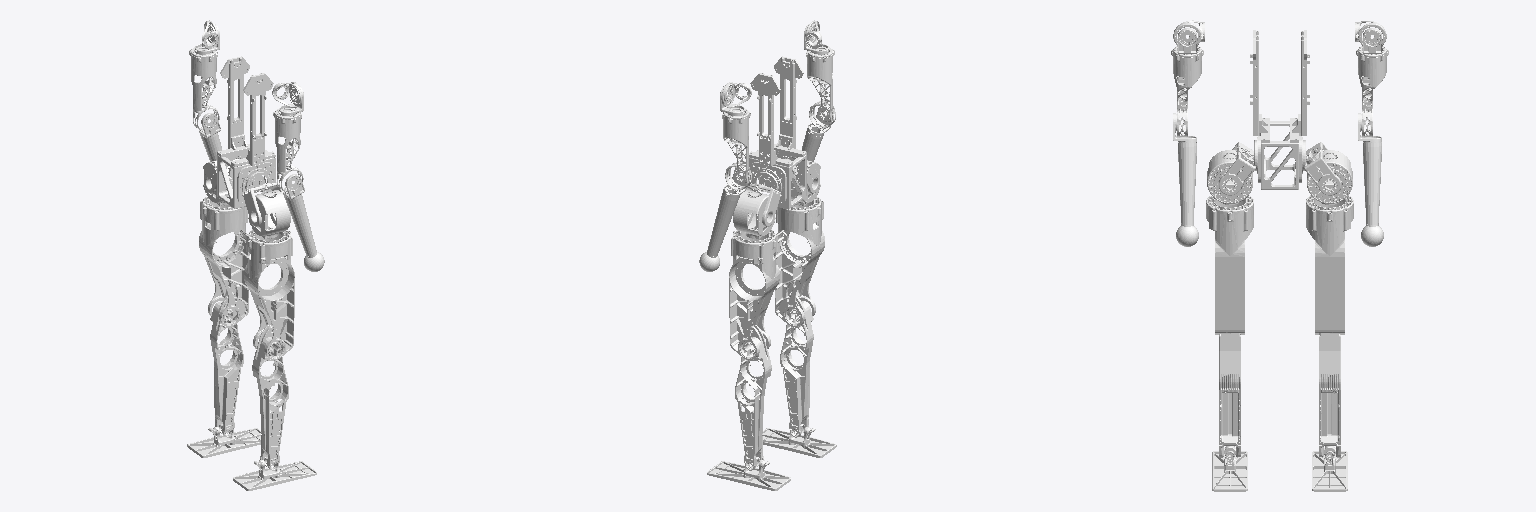
--- What the picture shows (computed from the rendered views, not written in the file) ---
The picture shows the robot from 3 angles, left to right: view 1: azimuth 30°, elevation 25°; view 2: azimuth 150°, elevation 25°; view 3: azimuth 270°, elevation 25°; orthographic projection.
Model L13dof with 21 links and 20 joints (12 revolute, 8 fixed), rooted at base_link, posed every joint at zero.
Links seen in each view (by area): view 1: base_link, right_link_7, left_link_7, right_link_8, left_link_8, right_link_4, left_link_3, right_link_3, right_link_91, right_link_6, left_link_91, left_link_4 (+1 smaller); view 2: base_link, left_link_7, right_link_7, left_link_8, right_link_8, left_link_4, left_link_3, left_link_91, right_link_3, left_link_6, right_link_91, right_link_4 (+1 smaller); view 3: left_link_7, right_link_7, base_link, left_link_8, right_link_8, right_link_4, left_link_4, left_link_3, right_link_3, left_link_91, right_link_91, left_link_6 (+3 smaller).
Link boxes in pixels (x1,y1,x2,y2): base_link: (217,56,275,208); right_link_7: (244,229,294,359); left_link_7: (199,196,248,326); right_link_8: (252,325,288,470); left_link_8: (210,296,243,437); right_link_4: (283,174,324,271); left_link_3: (189,47,219,131); right_link_3: (273,109,303,193); right_link_91: (233,460,316,490); right_link_6: (248,190,290,238); left_link_91: (187,427,261,457); left_link_4: (199,113,221,161); base_link: (749,56,806,209); left_link_7: (729,229,779,359); right_link_7: (775,196,824,326); left_link_8: (735,325,771,470); right_link_8: (780,295,813,437); left_link_4: (699,166,748,271); left_link_3: (722,109,751,189); left_link_91: (707,460,790,490); right_link_3: (806,47,835,128); left_link_6: (733,190,775,238); right_link_91: (762,427,836,457); right_link_4: (802,104,832,161); left_link_7: (1306,195,1353,334); right_link_7: (1206,195,1253,334); base_link: (1250,30,1309,189); left_link_8: (1319,333,1340,457); right_link_8: (1219,333,1240,457); right_link_4: (1173,113,1198,246); left_link_4: (1358,113,1383,246); left_link_3: (1356,46,1388,136); right_link_3: (1171,46,1203,136); left_link_91: (1312,446,1347,491); right_link_91: (1212,446,1247,491); left_link_6: (1307,150,1352,204).
Size in the robot's own frame: 0.25 by 0.6117 by 1.39 metres.
21 mesh visuals loaded from 21 distinct referenced files (21 binary STL).

The robot description file, URDF, robot "L13dof":
<?xml version="1.0" encoding="utf-8"?>
<!-- This URDF was automatically created by SolidWorks to URDF Exporter! Originally created by Stephen Brawner ([email redacted]) 
     Commit Version: 1.6.0-4-g7f85cfe  Build Version: 1.6.7995.38578
     For more information, please see http://wiki.ros.org/sw_urdf_exporter -->
<robot
  name="L13dof">
  <mujoco>
    <compiler meshdir="../meshes_L1_fb/"/>
  </mujoco>

  <link
    name="base_link">
    <inertial>
      <origin
        xyz="-0.00115901 -0.00010211 0.12923349"
        rpy="0 0 0" />
      <mass
        value="17.13191021" />
      <inertia
        ixx="0.70017106"
        ixy="-0.00030346"
        ixz="-0.05489343"
        iyy="0.59901885"
        iyz="0.00049175"
        izz="0.16557493" />
    </inertial>
    <visual>
      <origin
        xyz="0 0 0"
        rpy="0 0 0" />
      <geometry>
        <mesh
          filename="../meshes_L1_fb/base_link.STL" />
      </geometry>
      <material
        name="">
        <color
          rgba="1 1 1 1" />
      </material>
    </visual>
    <collision>
      <origin
        xyz="0 0 0"
        rpy="0 0 0" />
      <geometry>
        <mesh
          filename="../meshes_L1_fb/base_link.STL" />
      </geometry>
    </collision>
  </link>

  <link
    name="left_link_1">
    <inertial>
      <origin
        xyz="-0.00071452 0.044067 -0.00025689"
        rpy="0 0 0" />
      <mass
        value="0.7773" />
      <inertia
        ixx="0.00050258"
        ixy="-2.16E-06"
        ixz="-5E-07"
        iyy="0.00047078"
        iyz="-5E-06"
        izz="0.00051586" />
    </inertial>
    <visual>
      <origin
        xyz="0 0 0"
        rpy="0 0 0" />
      <geometry>
        <mesh
          filename="../meshes_L1_fb/SL1.STL" />
      </geometry>
      <material
        name="">
        <color
          rgba="1 1 1 1" />
      </material>
    </visual>
    <collision>
      <origin
        xyz="0 0 0"
        rpy="0 0 0" />
      <geometry>
        <mesh
          filename="../meshes_L1_fb/SL1.STL" />
      </geometry>
    </collision>
  </link>
  <joint
    name="left_joint_1"
    type="fixed">
    <origin
      xyz="-0.004 0.2134 0.2855"
      rpy="0 0 0" />
    <parent
      link="base_link" />
    <child
      link="left_link_1" />
    <axis
      xyz="0 1 0" />
    <limit
      lower="-3.14"
      upper="0.96"
      effort="22.5"
      velocity="14.37" />
  </joint>
  <link
    name="left_link_2">
    <inertial>
      <origin
        xyz="0.024175 0 -0.030578"
        rpy="0 0 0" />
      <mass
        value="0.09063" />
      <inertia
        ixx="8.144E-05"
        ixy="0"
        ixz="-2.059E-05"
        iyy="8.522E-05"
        iyz="0"
        izz="6.187E-05" />
    </inertial>
    <visual>
      <origin
        xyz="0 0 0"
        rpy="0 0 0" />
      <geometry>
        <mesh
          filename="../meshes_L1_fb/SL2.STL" />
      </geometry>
      <material
        name="">
        <color
          rgba="1 1 1 1" />
      </material>
    </visual>
    <collision>
      <origin
        xyz="0 0 0"
        rpy="0 0 0" />
      <geometry>
        <mesh
          filename="../meshes_L1_fb/SL2.STL" />
      </geometry>
    </collision>
  </link>
  <joint
    name="left_joint_2"
    type="fixed">
    <origin
      xyz="0 0.0464 0"
      rpy="0 0 0" />
    <parent
      link="left_link_1" />
    <child
      link="left_link_2" />
    <axis
      xyz="1 0 0" />
    <limit
      lower="0.0"
      upper="3.04"
      effort="22.5"
      velocity="14.37" />
  </joint>
  <link
    name="left_link_3">
    <inertial>
      <origin
        xyz="-0.0022201 0.00028824 -0.063082"
        rpy="0 0 0" />
      <mass
        value="1.1647" />
      <inertia
        ixx="0.0040792"
        ixy="1.142E-05"
        ixz="-0.00023903"
        iyy="0.0041354"
        iyz="-5.869E-05"
        izz="0.00088038" />
    </inertial>
    <visual>
      <origin
        xyz="0 0 0"
        rpy="0 0 0" />
      <geometry>
        <mesh
          filename="../meshes_L1_fb/SL3.STL" />
      </geometry>
      <material
        name="">
        <color
          rgba="1 1 1 1" />
      </material>
    </visual>
    <collision>
      <origin
        xyz="0 0 0"
        rpy="0 0 0" />
      <geometry>
        <mesh
          filename="../meshes_L1_fb/SL3.STL" />
      </geometry>
    </collision>
  </link>
  <joint
    name="left_joint_3"
    type="fixed">
    <origin
      xyz="0 0 -0.0536"
      rpy="0 0 0" />
    <parent
      link="left_link_2" />
    <child
      link="left_link_3" />
    <axis
      xyz="0 0 1" />
    <limit
      lower="-0.61"
      upper="0.61"
      effort="22.5"
      velocity="14.37" />
  </joint>
  <link
    name="left_link_4">
    <inertial>
      <origin
        xyz="2.271E-05 -0.00263053 -0.05313579"
        rpy="0 0 0" />
      <mass
        value="1.0228258" />
      <inertia
        ixx="0.01117205"
        ixy="-4E-08"
        ixz="-1.08E-06"
        iyy="0.01111104"
        iyz="0.00010051"
        izz="0.00058416" />
    </inertial>
    <visual>
      <origin
        xyz="0 0 0"
        rpy="0 0 0" />
      <geometry>
        <mesh
          filename="../meshes_L1_fb/SL4.STL" />
      </geometry>
      <material
        name="">
        <color
          rgba="1 1 1 1" />
      </material>
    </visual>
    <collision>
      <origin
        xyz="0 0 0"
        rpy="0 0 0" />
      <geometry>
        <mesh
          filename="../meshes_L1_fb/SL4.STL" />
      </geometry>
    </collision>
  </link>
  <joint
    name="left_joint_4"
    type="fixed">
    <origin
      xyz="0 0 -0.2264"
      rpy="0 -0.3 0" />
    <parent
      link="left_link_3" />
    <child
      link="left_link_4" />
    <axis
      xyz="0 1 0" />
    <limit
      lower="-2.62"
      upper="1.656"
      effort="22.5"
      velocity="14.37" />
  </joint>
  <link
    name="left_link_5">
    <inertial>
      <origin
        xyz="0.0040227 0.022926 -0.032741"
        rpy="0 0 0" />
      <mass
        value="0.33758" />
      <inertia
        ixx="0.00060104"
        ixy="-4.251E-05"
        ixz="6.071E-05"
        iyy="0.00097796"
        iyz="0.00016958"
        izz="0.00085451" />
    </inertial>
    <visual>
      <origin
        xyz="0 0 0"
        rpy="0 0 0" />
      <geometry>
        <mesh
          filename="../meshes_L1_fb/LL1.STL" />
      </geometry>
      <material
        name="">
        <color
          rgba="1 1 1 1" />
      </material>
    </visual>
    <!-- <collision>
      <origin
        xyz="0 0 0"
        rpy="0 0 0" />
      <geometry>
        <mesh
          filename="../meshes_L1_fb/LL1.STL" />
      </geometry>
    </collision> -->
  </link>
  <joint
    name="left_joint_5"
    type="revolute">
    <origin
      xyz="0 0.090386 -0.091358"
      rpy="0 0 0" />
    <parent
      link="base_link" />
    <child
      link="left_link_5" />
    <axis
      xyz="0 -0.57358 0.81915" />
    <limit
      lower="-1.815"
      upper="1.728"
      effort="105"
      velocity="14" />
  </joint>
  <link
    name="left_link_6">
    <inertial>
      <origin
        xyz="0.0063923 9.576E-05 -0.0033657"
        rpy="0 0 0" />
      <mass
        value="2.0598" />
      <inertia
        ixx="0.0033032"
        ixy="1.8E-07"
        ixz="-0.00014392"
        iyy="0.0027555"
        iyz="1.72E-06"
        izz="0.0023703" />
    </inertial>
    <visual>
      <origin
        xyz="0 0 0"
        rpy="0 0 0" />
      <geometry>
        <mesh
          filename="../meshes_L1_fb/LL2.STL" />
      </geometry>
      <material
        name="">
        <color
          rgba="1 1 1 1" />
      </material>
    </visual>
    <!-- <collision>
      <origin
        xyz="0 0 0"
        rpy="0 0 0" />
      <geometry>
        <mesh
          filename="../meshes_L1_fb/LL2.STL" />
      </geometry>
    </collision> -->
  </link>
  <joint
    name="left_joint_6"
    type="revolute">
    <origin
      xyz="0 0.049614 -0.070857"
      rpy="0 0 0" />
    <parent
      link="left_link_5" />
    <child
      link="left_link_6" />
    <axis
      xyz="1 0 0" />
    <limit
      lower="-1.134"
      upper="1.309"
      effort="105"
      velocity="14" />
  </joint>
  <link
    name="left_link_7">
    <inertial>
      <origin
        xyz="0.00302429 0.00846589 -0.12773383"
        rpy="0 0 0" />
      <mass
        value="5.34674227" />
      <inertia
        ixx="0.05907733"
        ixy="0.00026302"
        ixz="0.00355107"
        iyy="0.05921821"
        iyz="0.00056807"
        izz="0.01051648" />
    </inertial>
    <visual>
      <origin
        xyz="0 0 0"
        rpy="0 0 0" />
      <geometry>
        <mesh
          filename="../meshes_L1_fb/LL3.STL" />
      </geometry>
      <material
        name="">
        <color
          rgba="1 1 1 1" />
      </material>
    </visual>
    <!-- <collision>
      <origin
        xyz="0 0 0"
        rpy="0 0 0" />
      <geometry>
        <mesh
          filename="../meshes_L1_fb/LL3.STL" />
      </geometry>
    </collision> -->
    <collision>
      <origin
        xyz="0 0 -0.18"
        rpy="0 0 0" />
      <geometry>
        <box size="0.05 0.05 0.25" />
      </geometry>
    </collision>
  </link>
  <joint
    name="left_joint_7"
    type="revolute">
    <origin
      xyz="0 0 -0.075"
      rpy="0 0 0" />
    <parent
      link="left_link_6" />
    <child
      link="left_link_7" />
    <axis
      xyz="0 0 1" />
    <limit
      lower="-1.396"
      upper="1.396"
      effort="105"
      velocity="14" />
  </joint>
  <link
    name="left_link_8">
    <inertial>
      <origin
        xyz="-0.00054298 -5.372E-05 -0.15949497"
        rpy="0 0 0" />
      <mass
        value="2.64088474" />
      <inertia
        ixx="0.03304382"
        ixy="8.3E-05"
        ixz="-0.00027801"
        iyy="0.03353535"
        iyz="-1.657E-05"
        izz="0.00261888" />
    </inertial>
    <visual>
      <origin
        xyz="0 0 0"
        rpy="0 0 0" />
      <geometry>
        <mesh
          filename="../meshes_L1_fb/LL4.STL" />
      </geometry>
      <material
        name="">
        <color
          rgba="1 1 1 1" />
      </material>
    </visual>
    <!-- <collision>
      <origin
        xyz="0 0 0"
        rpy="0 0 0" />
      <geometry>
        <mesh
          filename="../meshes_L1_fb/LL4.STL" />
      </geometry>
    </collision> -->
    <collision>
      <origin
        xyz="0 0 -0.2"
        rpy="0 0 0" />
      <geometry>
        <box size="0.05 0.05 0.25" />
      </geometry>
    </collision>
  </link>
  <joint
    name="left_joint_8"
    type="revolute">
    <origin
      xyz="0 0 -0.375"
      rpy="0 0 0" />
    <parent
      link="left_link_7" />
    <child
      link="left_link_8" />
    <axis
      xyz="0 1 0" />
    <limit
      lower="0.0"
      upper="2.443"
      effort="105"
      velocity="14" />
  </joint>
  <link
    name="left_link_9">
    <inertial>
      <origin
        xyz="0 0 0"
        rpy="0 0 0" />
      <mass
        value="0.03494031" />
      <inertia
        ixx="5.53E-06"
        ixy="0"
        ixz="0"
        iyy="3.79E-06"
        iyz="0"
        izz="3.98E-06" />
    </inertial>
    <visual>
      <origin
        xyz="0 0 0"
        rpy="0 0 0" />
      <geometry>
        <mesh
          filename="../meshes_L1_fb/LL5.STL" />
      </geometry>
      <material
        name="">
        <color
          rgba="1 1 1 1" />
      </material>
    </visual>
    <collision>
      <origin
        xyz="0 0 0"
        rpy="0 0 0" />
      <geometry>
        <mesh
          filename="../meshes_L1_fb/LL5.STL" />
      </geometry>
    </collision>
  </link>
  <joint
    name="left_joint_9"
    type="revolute">
    <origin
      xyz="0 0 -0.4"
      rpy="0 0 0" />
    <parent
      link="left_link_8" />
    <child
      link="left_link_9" />
    <axis
      xyz="0 1 0" />
    <limit
      lower="-1.047"
      upper="0.523"
      effort="27"
      velocity="16" />
  </joint>
  <link
    name="left_link_91">
    <inertial>
      <origin
        xyz="0.0117187 0 -0.04631141"
        rpy="0 0 0" />
      <mass
        value="0.78906281" />
      <inertia
        ixx="0.00084994"
        ixy="-1E-08"
        ixz="0.00014171"
        iyy="0.00361695"
        iyz="0"
        izz="0.00397023" />
    </inertial>
    <visual>
      <origin
        xyz="0 0 0"
        rpy="0 0 0" />
      <geometry>
        <mesh
          filename="../meshes_L1_fb/LL6.STL" />
      </geometry>
      <material
        name="">
        <color
          rgba="1 1 1 1" />
      </material>
    </visual>
    <collision>
      <origin
        xyz="0 0 0"
        rpy="0 0 0" />
      <geometry>
        <mesh
          filename="../meshes_L1_fb/LL6.STL" />
      </geometry>
    </collision>
  </link>
  <joint
    name="left_joint_91"
    type="revolute">
    <origin
      xyz="0 0 0"
      rpy="0 0 0" />
    <parent
      link="left_link_9" />
    <child
      link="left_link_91" />
    <axis
      xyz="1 0 0" />
    <limit
      lower="-0.611"
      upper="0.611"
      effort="27"
      velocity="16" />
  </joint>

  <link
    name="right_link_1">
    <inertial>
      <origin
        xyz="-0.00071452 -0.044067 0.00025689"
        rpy="0 0 0" />
      <mass
        value="0.7773" />
      <inertia
        ixx="0.00050258"
        ixy="2.16E-06"
        ixz="5E-07"
        iyy="0.00047078"
        iyz="-5E-06"
        izz="0.00051586" />
    </inertial>
    <visual>
      <origin
        xyz="0 0 0"
        rpy="0 0 0" />
      <geometry>
        <mesh
          filename="../meshes_L1_fb/SR1.STL" />
      </geometry>
      <material
        name="">
        <color
          rgba="1 1 1 1" />
      </material>
    </visual>
    <collision>
      <origin
        xyz="0 0 0"
        rpy="0 0 0" />
      <geometry>
        <mesh
          filename="../meshes_L1_fb/SR1.STL" />
      </geometry>
    </collision>
  </link>
  <joint
    name="right_joint_1"
    type="fixed">
    <origin
      xyz="-0.004 -0.2134 0.28554"
      rpy="0 0 0" />
    <parent
      link="base_link" />
    <child
      link="right_link_1" />
    <axis
      xyz="0 1 0" />
    <limit
      lower="-3.14"
      upper="0.96"
      effort="22.5"
      velocity="14.37" />
  </joint>
  <link
    name="right_link_2">
    <inertial>
      <origin
        xyz="0.024175 0 -0.030616"
        rpy="0 0 0" />
      <mass
        value="0.09063" />
      <inertia
        ixx="8.144E-05"
        ixy="0"
        ixz="-2.059E-05"
        iyy="8.522E-05"
        iyz="0"
        izz="6.187E-05" />
    </inertial>
    <visual>
      <origin
        xyz="0 0 0"
        rpy="0 0 0" />
      <geometry>
        <mesh
          filename="../meshes_L1_fb/SR2.STL" />
      </geometry>
      <material
        name="">
        <color
          rgba="1 1 1 1" />
      </material>
    </visual>
    <collision>
      <origin
        xyz="0 0 0"
        rpy="0 0 0" />
      <geometry>
        <mesh
          filename="../meshes_L1_fb/SR2.STL" />
      </geometry>
    </collision>
  </link>
  <joint
    name="right_joint_2"
    type="fixed">
    <origin
      xyz="0 -0.0464 0"
      rpy="0 0 0" />
    <parent
      link="right_link_1" />
    <child
      link="right_link_2" />
    <axis
      xyz="1 0 0" />
    <limit
      lower="-3.04"
      upper="0.0"
      effort="22.5"
      velocity="14.37" />
  </joint>
  <link
    name="right_link_3">
    <inertial>
      <origin
        xyz="-0.00222005 0.00028824 -0.06308245"
        rpy="0 0 0" />
      <mass
        value="1.16468869" />
      <inertia
        ixx="0.00407916"
        ixy="1.142E-05"
        ixz="-0.00023903"
        iyy="0.0041354"
        iyz="-5.869E-05"
        izz="0.00088038" />
    </inertial>
    <visual>
      <origin
        xyz="0 0 0"
        rpy="0 0 0" />
      <geometry>
        <mesh
          filename="../meshes_L1_fb/SR3.STL" />
      </geometry>
      <material
        name="">
        <color
          rgba="1 1 1 1" />
      </material>
    </visual>
    <collision>
      <origin
        xyz="0 0 0"
        rpy="0 0 0" />
      <geometry>
        <mesh
          filename="../meshes_L1_fb/SR3.STL" />
      </geometry>
    </collision>
  </link>
  <joint
    name="right_joint_3"
    type="fixed">
    <origin
      xyz="0 0 -0.053638"
      rpy="0 0 0" />
    <parent
      link="right_link_2" />
    <child
      link="right_link_3" />
    <axis
      xyz="0 0 1" />
    <limit
      lower="-0.61"
      upper="0.61"
      effort="22.5"
      velocity="14.37" />
  </joint>
  <link
    name="right_link_4">
    <inertial>
      <origin
        xyz="2.271E-05 -0.0026305 -0.053136"
        rpy="0 0 0" />
      <mass
        value="1.0228" />
      <inertia
        ixx="0.011172"
        ixy="-4E-08"
        ixz="-1.08E-06"
        iyy="0.011111"
        iyz="0.00010051"
        izz="0.00058416" />
    </inertial>
    <visual>
      <origin
        xyz="0 0 0"
        rpy="0 0 0" />
      <geometry>
        <mesh
          filename="../meshes_L1_fb/SR4.STL" />
      </geometry>
      <material
        name="">
        <color
          rgba="1 1 1 1" />
      </material>
    </visual>
    <collision>
      <origin
        xyz="0 0 0"
        rpy="0 0 0" />
      <geometry>
        <mesh
          filename="../meshes_L1_fb/SR4.STL" />
      </geometry>
    </collision>
  </link>
  <joint
    name="right_joint_4"
    type="fixed">
    <origin
      xyz="0 0 -0.2264"
      rpy="0 -0.3 0" />
    <parent
      link="right_link_3" />
    <child
      link="right_link_4" />
    <axis
      xyz="0 1 0" />
    <limit
      lower="-2.62"
      upper="1.656"
      effort="22.5"
      velocity="14.37" />
  </joint>
  <link
    name="right_link_5">
    <inertial>
      <origin
        xyz="0.0039037 -0.023102 -0.032993"
        rpy="0 0 0" />
      <mass
        value="0.34441" />
      <inertia
        ixx="0.00061264"
        ixy="4.813E-05"
        ixz="6.873E-05"
        iyy="0.0010028"
        iyz="-0.00017397"
        izz="0.00087612" />
    </inertial>
    <visual>
      <origin
        xyz="0 0 0"
        rpy="0 0 0" />
      <geometry>
        <mesh
          filename="../meshes_L1_fb/LR1.STL" />
      </geometry>
      <material
        name="">
        <color
          rgba="1 1 1 1" />
      </material>
    </visual>
    <!-- <collision>
      <origin
        xyz="0 0 0"
        rpy="0 0 0" />
      <geometry>
        <mesh
          filename="../meshes_L1_fb/LR1.STL" />
      </geometry>
    </collision> -->
  </link>
  <joint
    name="right_joint_5"
    type="revolute">
    <origin
      xyz="0 -0.090386 -0.091358"
      rpy="0 0 0" />
    <parent
      link="base_link" />
    <child
      link="right_link_5" />
    <axis
      xyz="0 0.57358 0.81915" />
    <limit
      lower="-1.728"
      upper="1.815"
      effort="105"
      velocity="14" />
  </joint>
  <link
    name="right_link_6">
    <inertial>
      <origin
        xyz="0.0063923 9.576E-05 -0.0033657"
        rpy="0 0 0" />
      <mass
        value="2.0598" />
      <inertia
        ixx="0.0033032"
        ixy="1.8E-07"
        ixz="-0.00014392"
        iyy="0.0027555"
        iyz="1.72E-06"
        izz="0.0023703" />
    </inertial>
    <visual>
      <origin
        xyz="0 0 0"
        rpy="0 0 0" />
      <geometry>
        <mesh
          filename="../meshes_L1_fb/LR2.STL" />
      </geometry>
      <material
        name="">
        <color
          rgba="1 1 1 1" />
      </material>
    </visual>
    <!-- <collision>
      <origin
        xyz="0 0 0"
        rpy="0 0 0" />
      <geometry>
        <mesh
          filename="../meshes_L1_fb/LR2.STL" />
      </geometry>
    </collision> -->
  </link>
  <joint
    name="right_joint_6"
    type="revolute">
    <origin
      xyz="0 -0.049614 -0.070857"
      rpy="0 0 0" />
    <parent
      link="right_link_5" />
    <child
      link="right_link_6" />
    <axis
      xyz="1 0 0" />
    <limit
      lower="-1.309"
      upper="1.134"
      effort="105"
      velocity="14" />
  </joint>
  <link
    name="right_link_7">
    <inertial>
      <origin
        xyz="0.0039763 -0.0086064 -0.12813"
        rpy="0 0 0" />
      <mass
        value="5.4051" />
      <inertia
        ixx="0.060288"
        ixy="-0.00027695"
        ixz="0.0033217"
        iyy="0.060377"
        iyz="-0.00071335"
        izz="0.01065" />
    </inertial>
    <visual>
      <origin
        xyz="0 0 0"
        rpy="0 0 0" />
      <geometry>
        <mesh
          filename="../meshes_L1_fb/LR3.STL" />
      </geometry>
      <material
        name="">
        <color
          rgba="1 1 1 1" />
      </material>
    </visual>
    <!-- <collision>
      <origin
        xyz="0 0 0"
        rpy="0 0 0" />
      <geometry>
        <mesh
          filename="../meshes_L1_fb/LR3.STL" />
      </geometry>
    </collision> -->
    <collision>
      <origin
        xyz="0 0 -0.18"
        rpy="0 0 0" />
      <geometry>
        <box size="0.05 0.05 0.25" />
      </geometry>
    </collision>
  </link>
  <joint
    name="right_joint_7"
    type="revolute">
    <origin
      xyz="0 0 -0.075"
      rpy="0 0 0" />
    <parent
      link="right_link_6" />
    <child
      link="right_link_7" />
    <axis
      xyz="0 0 1" />
    <limit
      lower="-1.396"
      upper="1.396"
      effort="105"
      velocity="14" />
  </joint>
  <link
    name="right_link_8">
    <inertial>
      <origin
        xyz="-0.00074804 4.31E-06 -0.15794"
        rpy="0 0 0" />
      <mass
        value="2.6406" />
      <inertia
        ixx="0.031398"
        ixy="-8.897E-05"
        ixz="-0.00037362"
        iyy="0.032003"
        iyz="8.798E-05"
        izz="0.002737" />
    </inertial>
    <visual>
      <origin
        xyz="0 0 0"
        rpy="0 0 0" />
      <geometry>
        <mesh
          filename="../meshes_L1_fb/LR4.STL" />
      </geometry>
      <material
        name="">
        <color
          rgba="1 1 1 1" />
      </material>
    </visual>
    <!-- <collision>
      <origin
        xyz="0 0 0"
        rpy="0 0 0" />
      <geometry>
        <mesh
          filename="../meshes_L1_fb/LR4.STL" />
      </geometry>
    </collision> -->
    <collision>
      <origin
        xyz="0 0 -0.2"
        rpy="0 0 0" />
      <geometry>
        <box size="0.05 0.05 0.25" />
      </geometry>
    </collision>
  </link>
  <joint
    name="right_joint_8"
    type="revolute">
    <origin
      xyz="0 0 -0.375"
      rpy="0 0 0" />
    <parent
      link="right_link_7" />
    <child
      link="right_link_8" />
    <axis
      xyz="0 1 0" />
    <limit
      lower="0.0"
      upper="2.443"
      effort="105"
      velocity="14" />
  </joint>
  <link
    name="right_link_9">
    <inertial>
      <origin
        xyz="0 0 0"
        rpy="0 0 0" />
      <mass
        value="0.03494" />
      <inertia
        ixx="5.53E-06"
        ixy="0"
        ixz="0"
        iyy="3.79E-06"
        iyz="0"
        izz="3.98E-06" />
    </inertial>
    <visual>
      <origin
        xyz="0 0 0"
        rpy="0 0 0" />
      <geometry>
        <mesh
          filename="../meshes_L1_fb/LR5.STL" />
      </geometry>
      <material
        name="">
        <color
          rgba="1 1 1 1" />
      </material>
    </visual>
    <collision>
      <origin
        xyz="0 0 0"
        rpy="0 0 0" />
      <geometry>
        <mesh
          filename="../meshes_L1_fb/LR5.STL" />
      </geometry>
    </collision>
  </link>
  <joint
    name="right_joint_9"
    type="revolute">
    <origin
      xyz="0 0 -0.4"
      rpy="0 0 0" />
    <parent
      link="right_link_8" />
    <child
      link="right_link_9" />
    <axis
      xyz="0 1 0" />
    <limit
      lower="-1.047"
      upper="0.523"
      effort="27"
      velocity="16" />
  </joint>
  <link
    name="right_link_91">
    <inertial>
      <origin
        xyz="0.011719 0 -0.046311"
        rpy="0 0 0" />
      <mass
        value="0.78906" />
      <inertia
        ixx="0.00084994"
        ixy="-1E-08"
        ixz="0.00014171"
        iyy="0.003617"
        iyz="0"
        izz="0.0039702" />
    </inertial>
    <visual>
      <origin
        xyz="0 0 0"
        rpy="0 0 0" />
      <geometry>
        <mesh
          filename="../meshes_L1_fb/LR6.STL" />
      </geometry>
      <material
        name="">
        <color
          rgba="1 1 1 1" />
      </material>
    </visual>
    <collision>
      <origin
        xyz="0 0 0"
        rpy="0 0 0" />
      <geometry>
        <mesh
          filename="../meshes_L1_fb/LR6.STL" />
      </geometry>
    </collision>
  </link>
  <joint
    name="right_joint_91"
    type="revolute">
    <origin
      xyz="0 0 0"
      rpy="0 0 0" />
    <parent
      link="right_link_9" />
    <child
      link="right_link_91" />
    <axis
      xyz="1 0 0" />
    <limit
      lower="-0.611"
      upper="0.611"
      effort="27"
      velocity="16" />
  </joint>
</robot>
